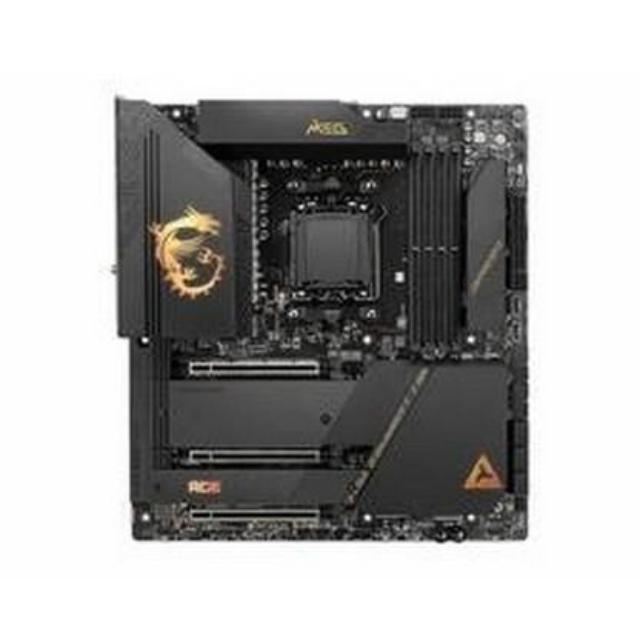Mainboard: (108, 90, 538, 556)
